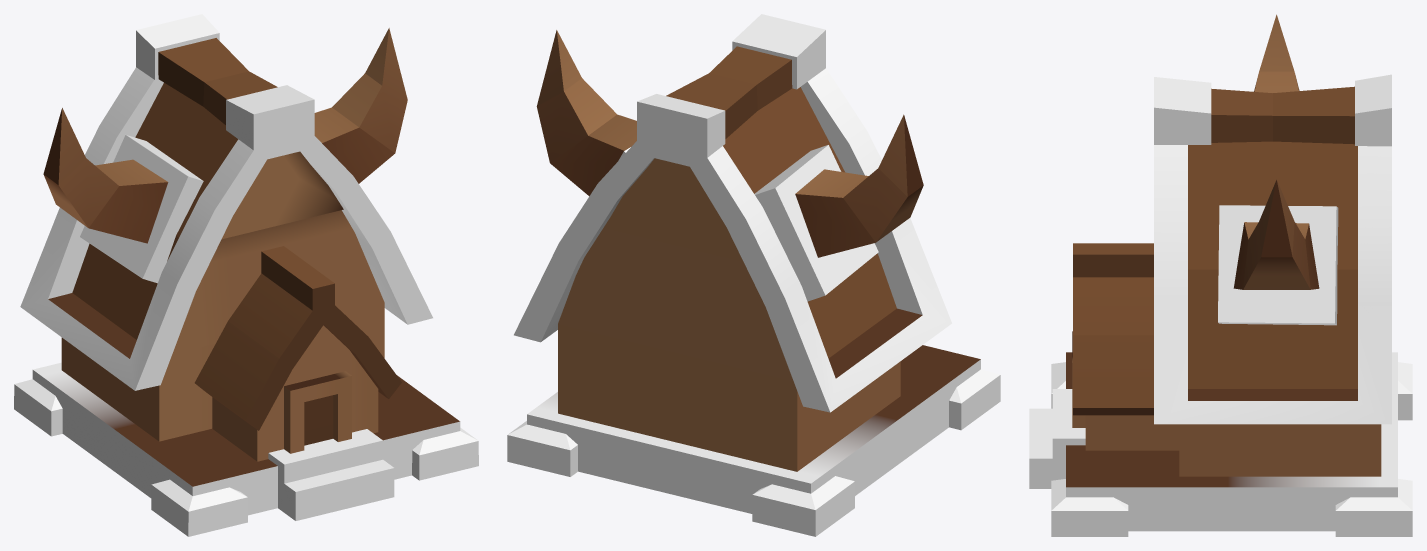
Rendered from Building_CityHall_Lv8.fbx.
The picture shows the model from 3 angles, left to right: view 1: azimuth 30°, elevation 25°; view 2: azimuth 150°, elevation 25°; view 3: azimuth 270°, elevation 25°; orthographic projection. The views are drawn at different scales.
Visible parts, largest first — view 1: Building_CityHall_Lv8; view 2: Building_CityHall_Lv8; view 3: Building_CityHall_Lv8.
Boxes of the visible parts, x1,y1,x2,y2 form: Building_CityHall_Lv8: [14, 14, 478, 536]; Building_CityHall_Lv8: [507, 14, 1000, 536]; Building_CityHall_Lv8: [1029, 14, 1412, 536].
Size of the model in its own units: 1.08 by 1.06 by 0.9866.
